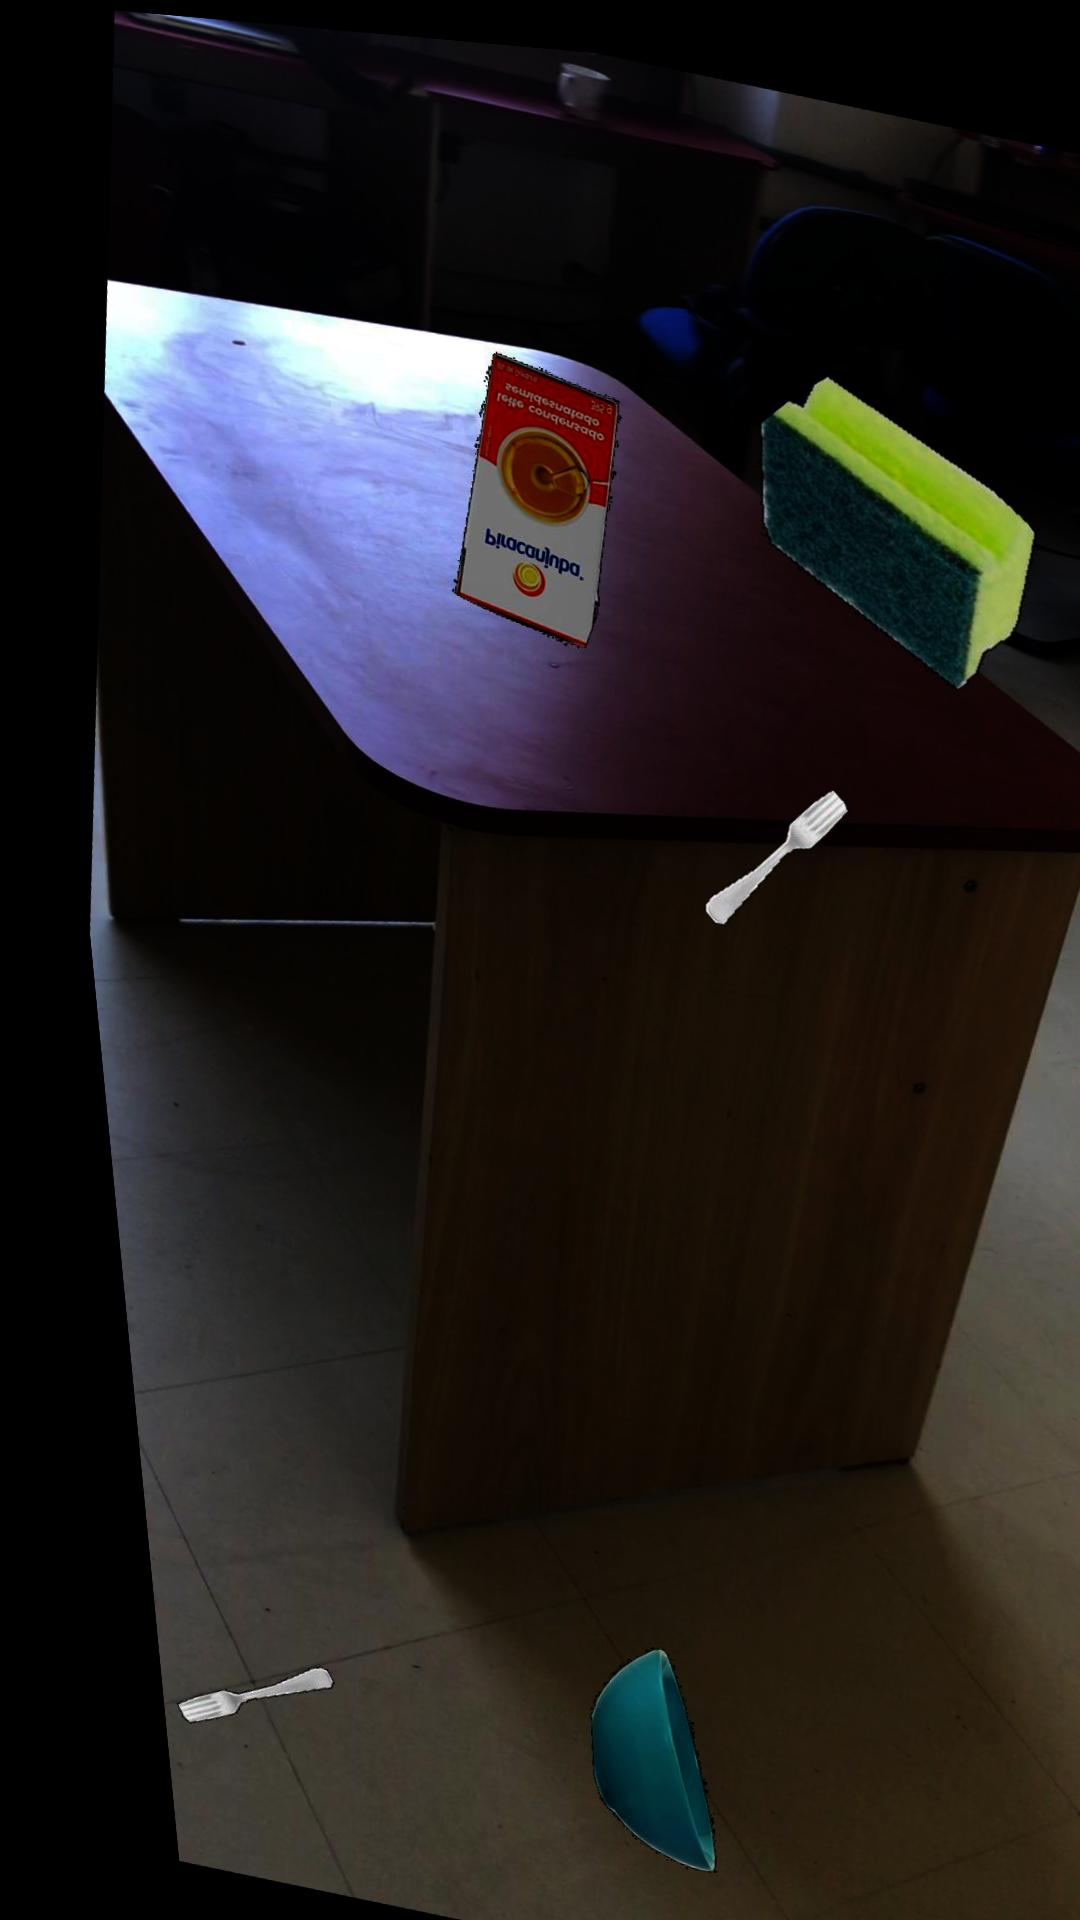bowl: (558, 1636, 680, 1861)
fork: (688, 774, 835, 913), (144, 1662, 301, 1721)
sponge: (753, 359, 1029, 671)
